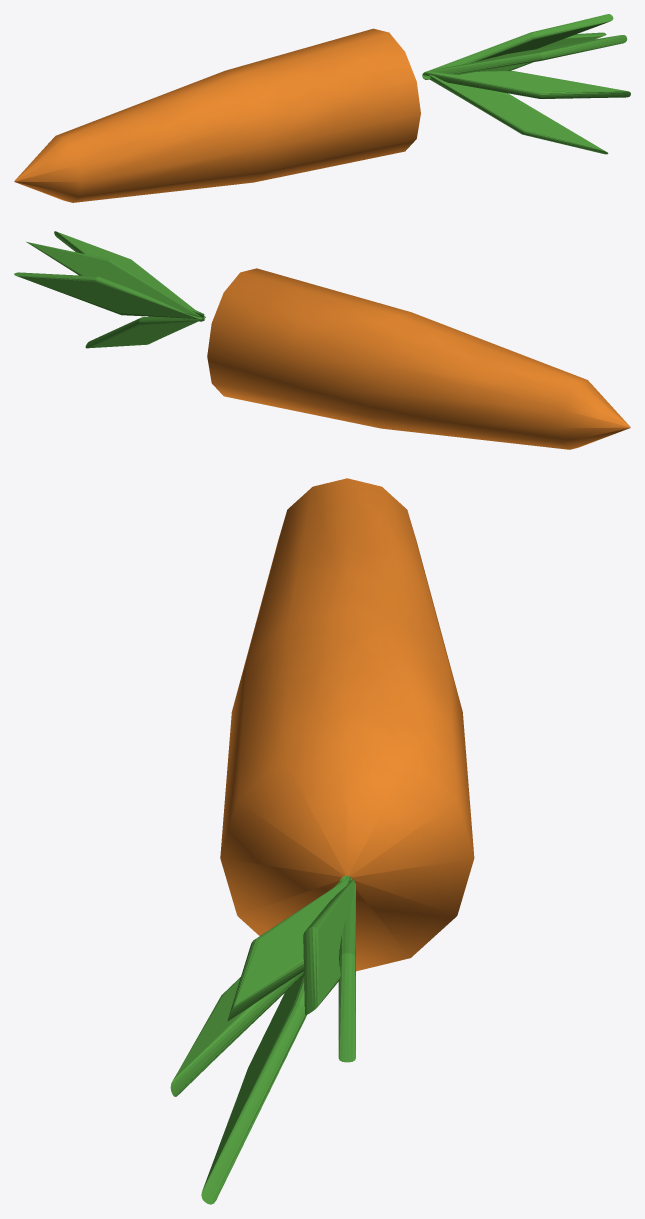
File: carrot.glb
The picture shows the model from 3 angles, top to bottom: view 1: azimuth 30°, elevation 25°; view 2: azimuth 150°, elevation 25°; view 3: azimuth 270°, elevation 25°; orthographic projection. The views are drawn at different scales.
Visible parts, largest first — view 1: carrot; view 2: carrot; view 3: carrot.
Boxes of the visible parts, <box> form: carrot: <box>14,14,630,202</box>; carrot: <box>14,231,630,449</box>; carrot: <box>170,478,474,1204</box>.
Bounding box in the file's own units: 0.2366 × 0.0541 × 0.0526.
2 materials, 1 textured.
